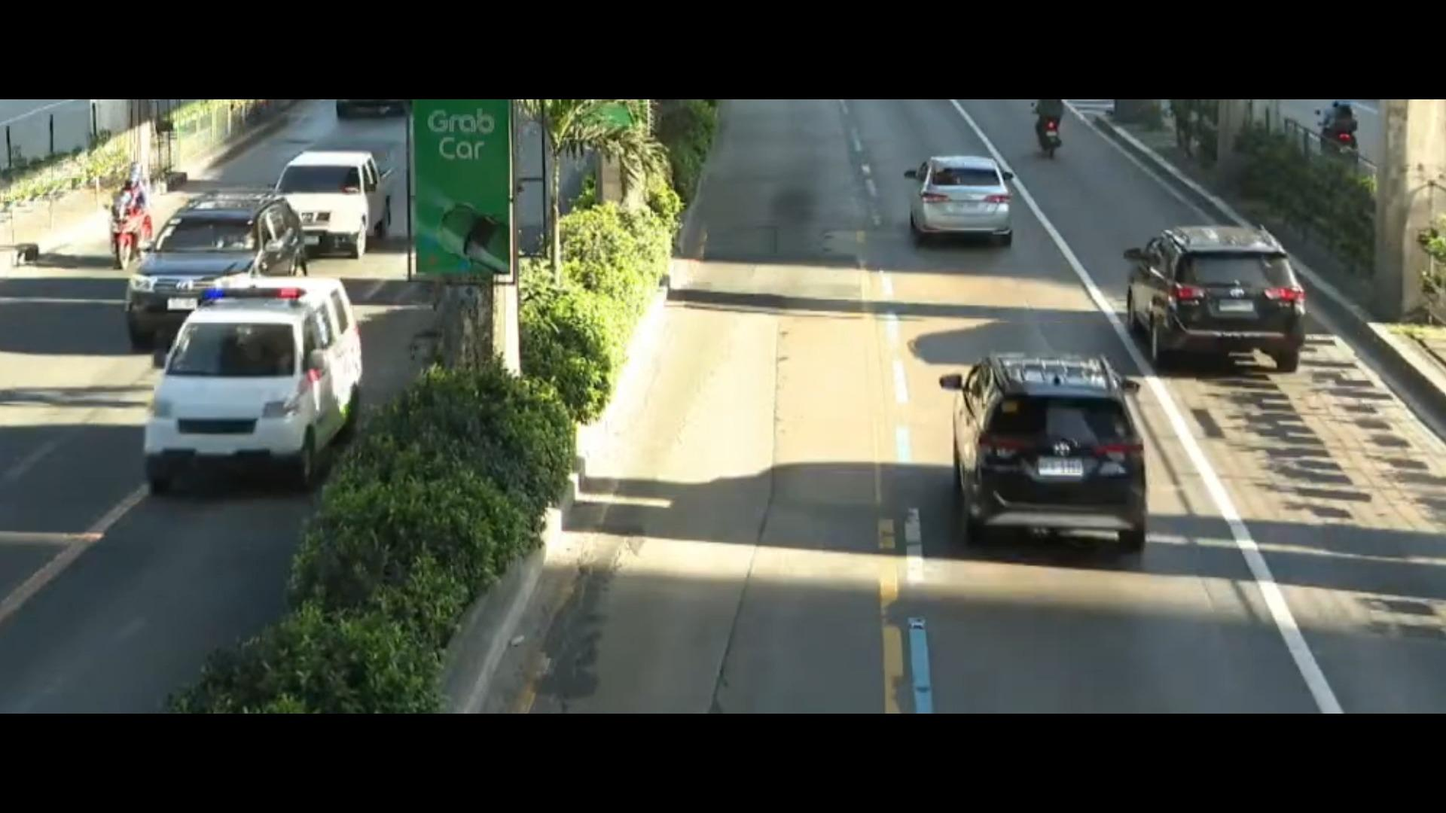Motorcycle: (85, 170, 160, 271), (1027, 104, 1083, 154)
Pickup: (281, 136, 407, 250)
SUV: (932, 347, 1161, 577), (1124, 209, 1322, 398), (122, 185, 322, 339)
Sedan: (898, 134, 1016, 264)
ambulance: (146, 275, 371, 500)
